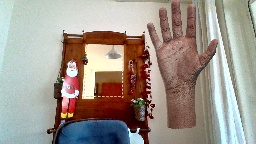Mano_aperta: (140, 0, 219, 86)
